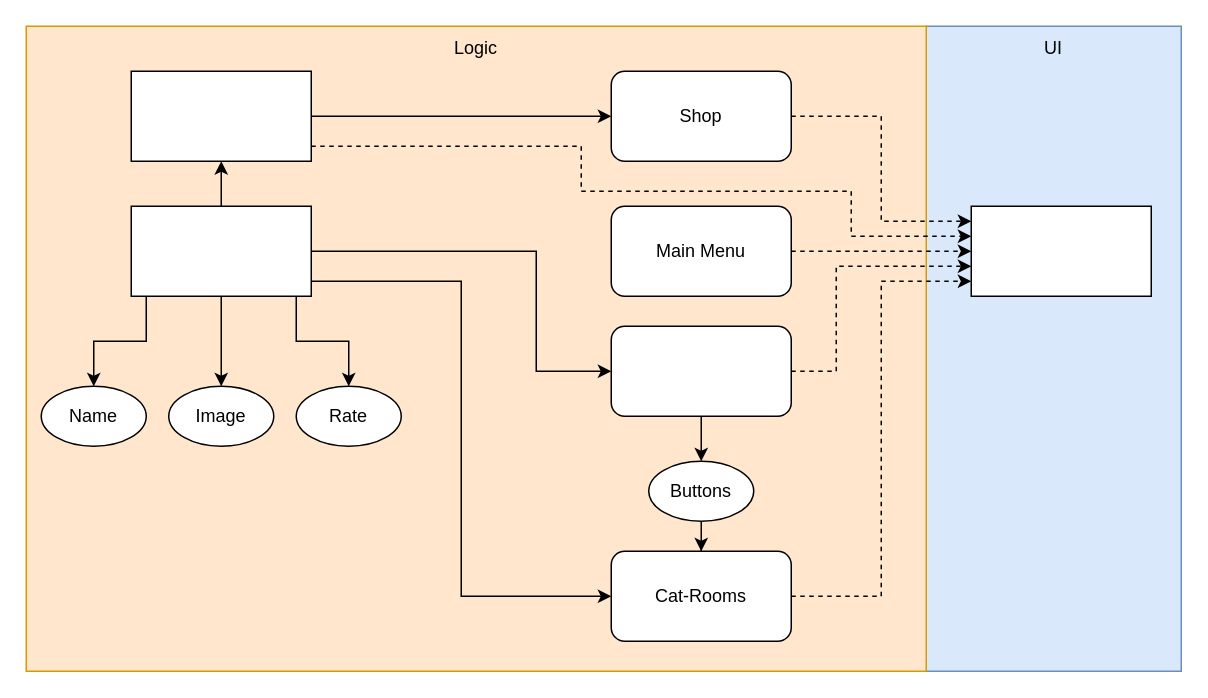
This 1208x698 diagram has some shape labels left out. Each missing label, with the centre of its shape:
"Camera/Canvas" goes at (x=1060, y=250).
"Cat Coins" goes at (x=220, y=115).
"Generators (Cats)" goes at (x=220, y=250).
"Overview" goes at (x=700, y=370).
